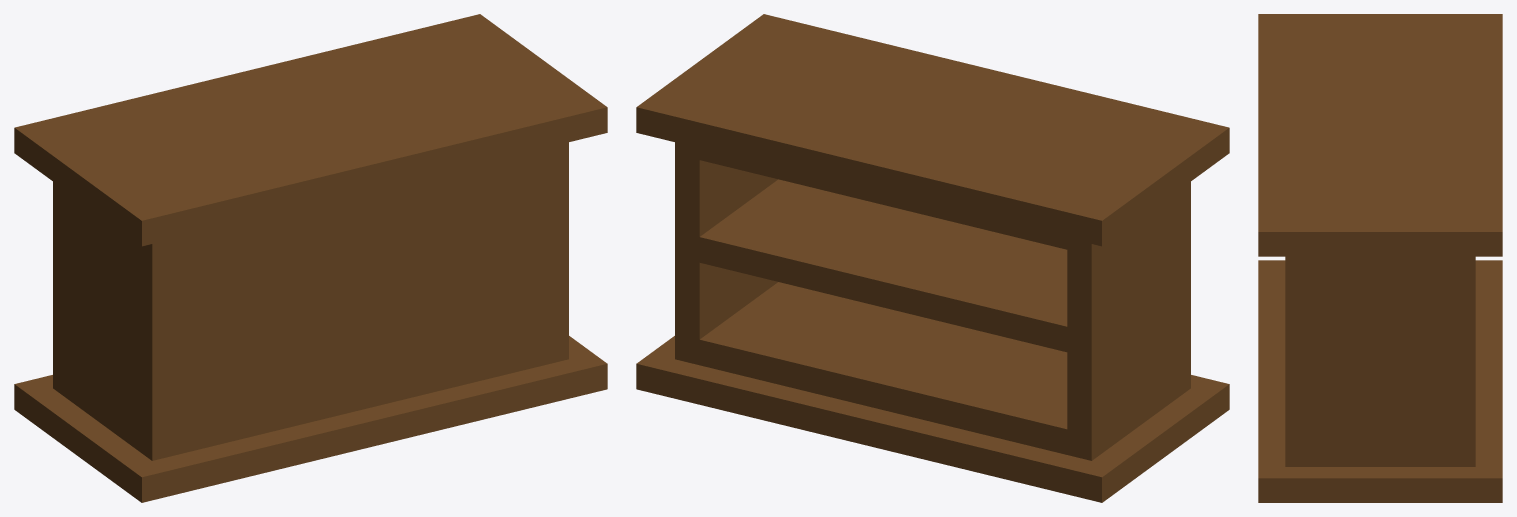
Rendered from chest of drawers.obj.
3 renders of one model, left to right at view 1: azimuth 30°, elevation 25°; view 2: azimuth 150°, elevation 25°; view 3: azimuth 270°, elevation 25°, orthographic. The views are drawn at different scales.
Parts seen in each view (by area): view 1: chest of drawers; view 2: chest of drawers; view 3: chest of drawers.
Part boxes in pixels (left/top/right/bottom): chest of drawers: left=14, top=14, right=607, bottom=502; chest of drawers: left=636, top=14, right=1229, bottom=502; chest of drawers: left=1258, top=14, right=1502, bottom=502.
Bounding box in the file's own units: 19 × 11 × 9.
